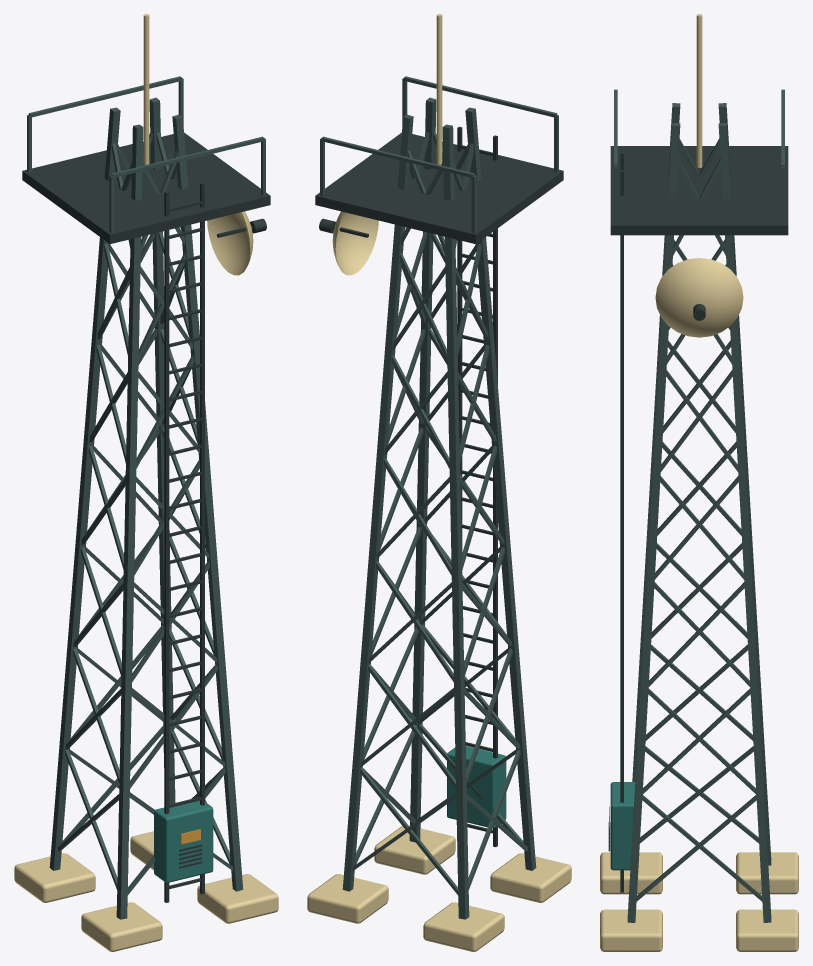
The model's file is SM_SignalMast_01.glb.
3 renders of one model, left to right at view 1: azimuth 30°, elevation 25°; view 2: azimuth 150°, elevation 25°; view 3: azimuth 270°, elevation 25°, orthographic.
Visible parts, largest first — view 1: SM_SignalMast_01_M_DH_steel, SM_SignalMast_01_M_DH_iron, SM_SignalMast_01_M_DH_cream (×2), SM_SignalMast_01_M_DH_teal; view 2: SM_SignalMast_01_M_DH_steel, SM_SignalMast_01_M_DH_iron, SM_SignalMast_01_M_DH_cream (×2), SM_SignalMast_01_M_DH_teal; view 3: SM_SignalMast_01_M_DH_steel, SM_SignalMast_01_M_DH_iron, SM_SignalMast_01_M_DH_cream (×2), SM_SignalMast_01_M_DH_teal.
Boxes of the visible parts, x1,y1,x2,y2 form: SM_SignalMast_01_M_DH_steel: (27, 76, 265, 919); SM_SignalMast_01_M_DH_iron: (22, 132, 270, 902); SM_SignalMast_01_M_DH_cream (×2): (14, 14, 278, 951); SM_SignalMast_01_M_DH_teal: (154, 800, 213, 882); SM_SignalMast_01_M_DH_steel: (320, 76, 558, 919); SM_SignalMast_01_M_DH_iron: (315, 126, 563, 846); SM_SignalMast_01_M_DH_cream (×2): (307, 14, 571, 951); SM_SignalMast_01_M_DH_teal: (447, 746, 506, 828); SM_SignalMast_01_M_DH_steel: (614, 89, 784, 922); SM_SignalMast_01_M_DH_iron: (608, 146, 788, 892); SM_SignalMast_01_M_DH_cream (×2): (600, 14, 798, 951); SM_SignalMast_01_M_DH_teal: (610, 782, 635, 870).
Size of the model in its own units: 2.27 by 9.45 by 1.9.
